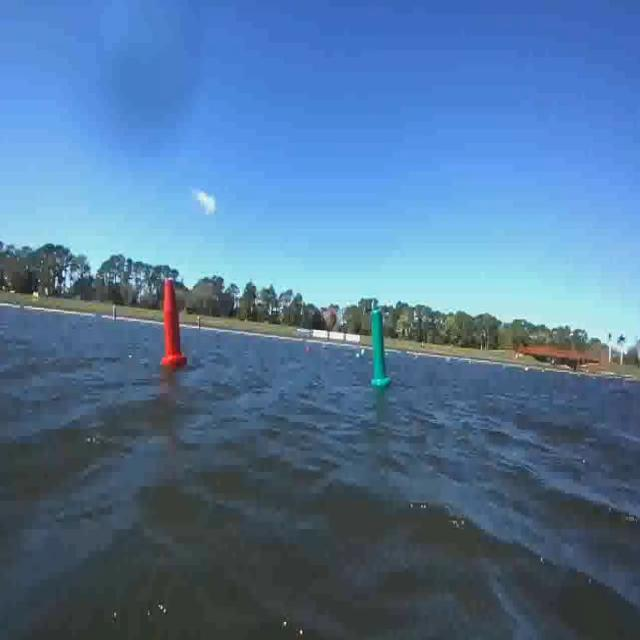green-column-buoy: (370, 308, 392, 388)
red-column-buoy: (162, 276, 188, 368)
